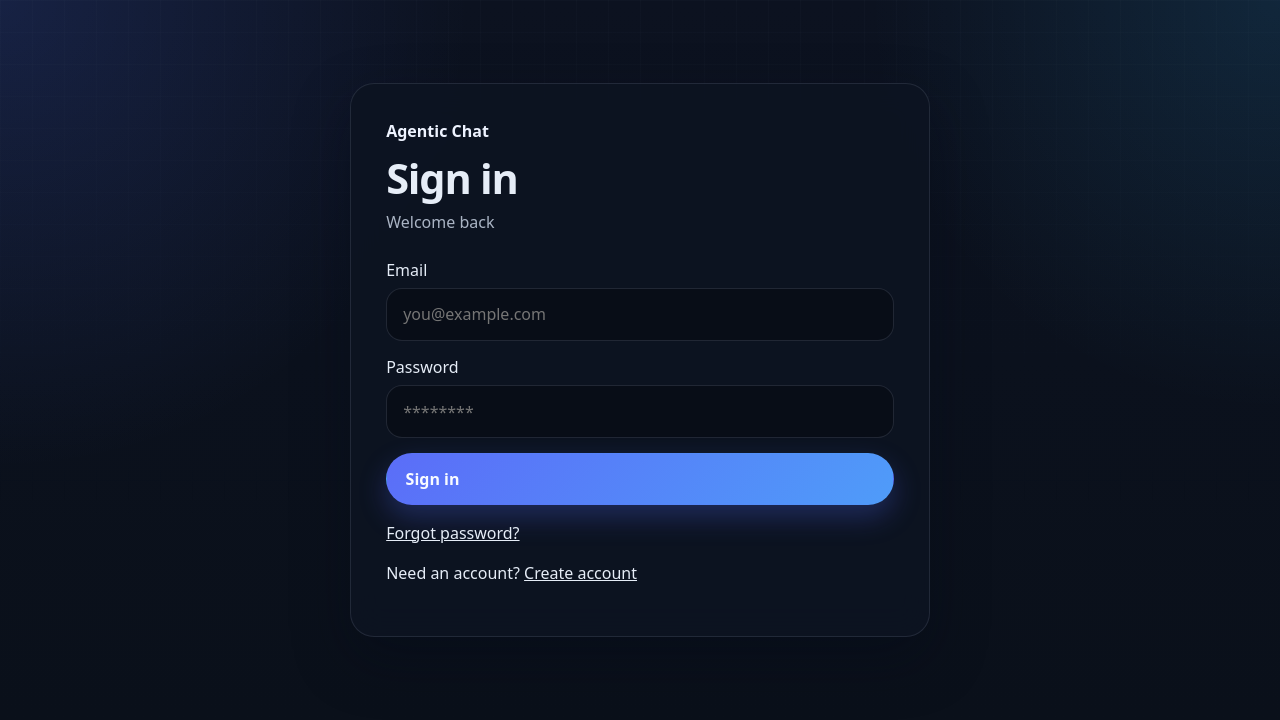
Test: App routes › enters the protected workspace through sign-in
Type "preview@agentic.chat" into the field labelled "Email" at (640, 314), box [386, 288, 894, 341]
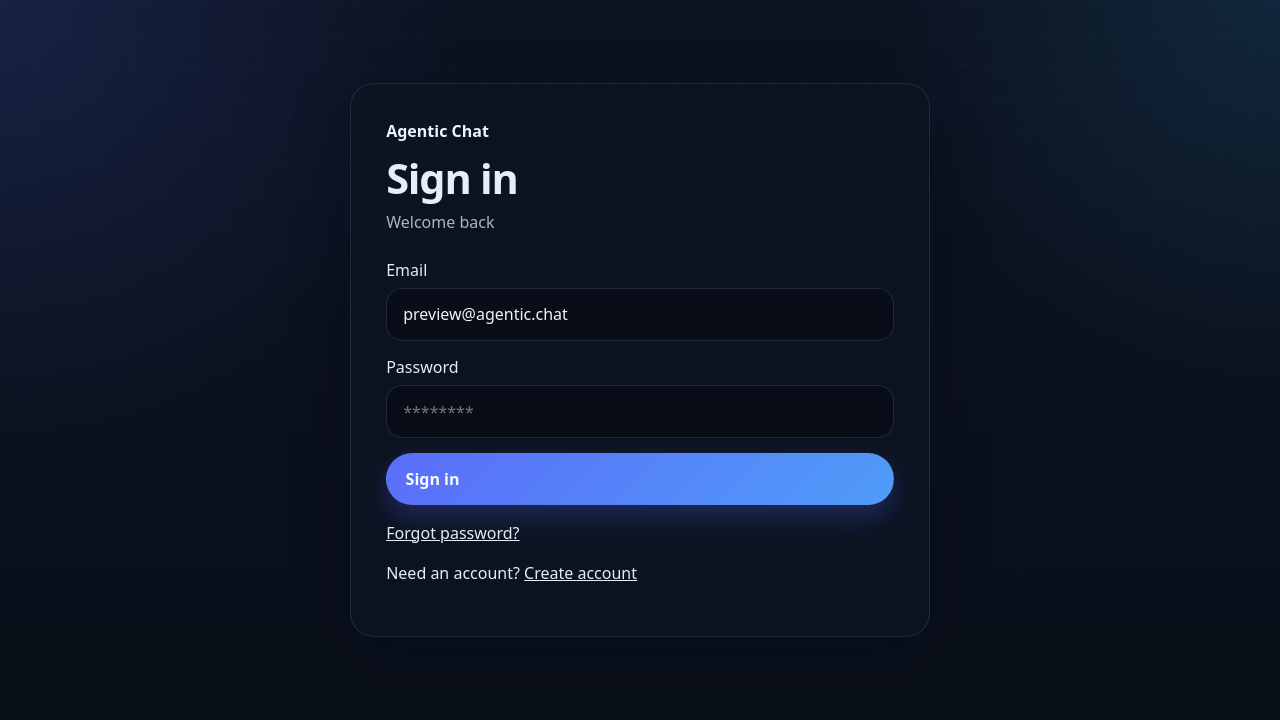
Type "correct-horse-battery-staple" into the password field labelled "Password" at (640, 412), box [386, 385, 894, 438]
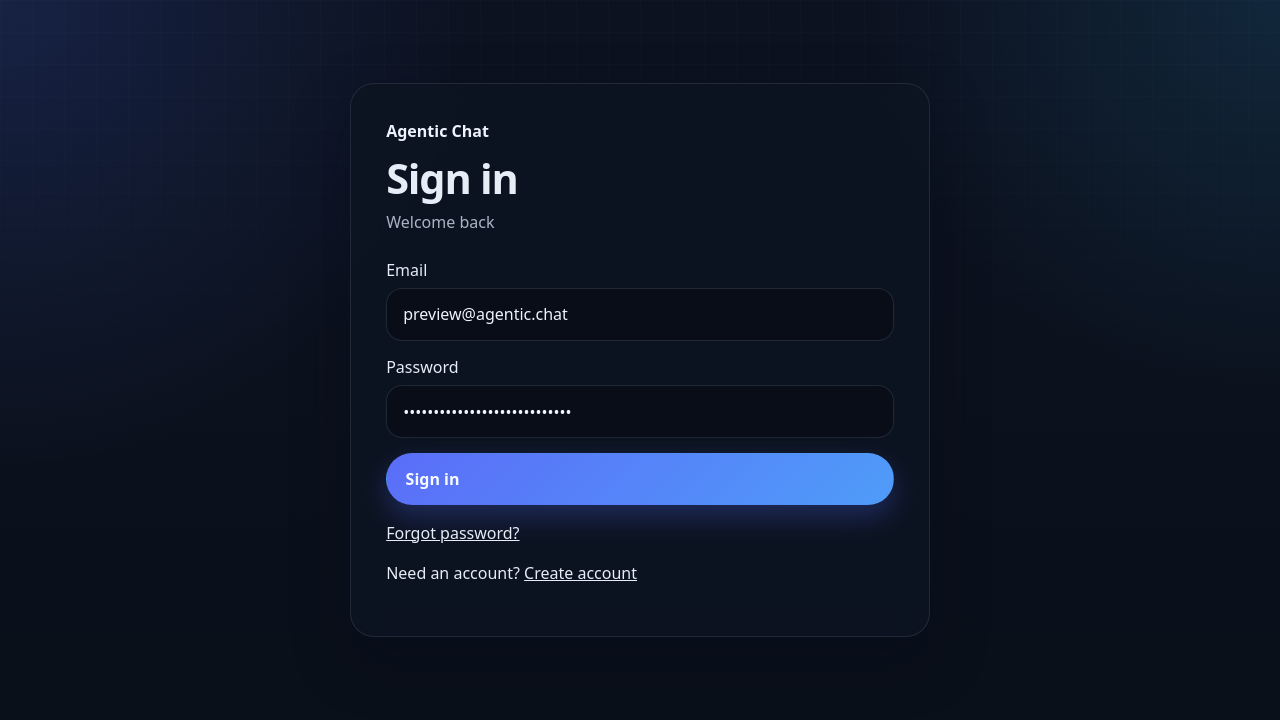
Click the button "Sign in" at (433, 479), box [386, 453, 894, 505]
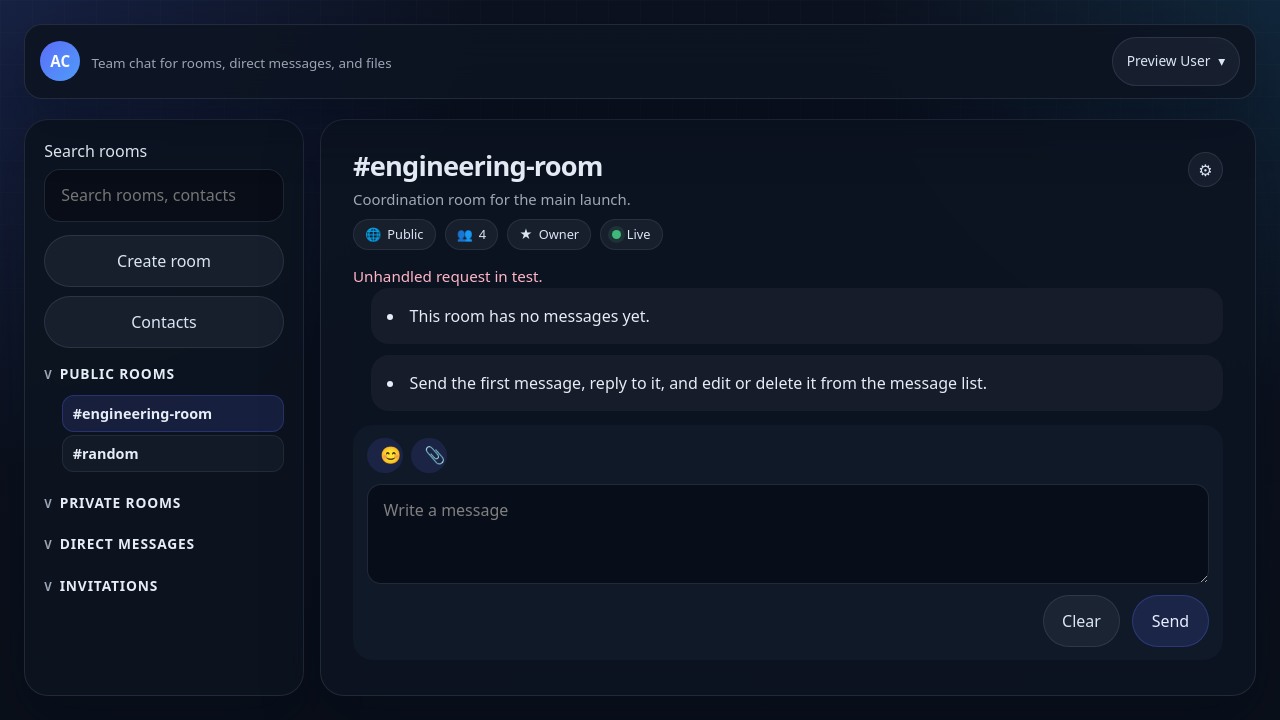
Now the button "#engineering-room" is shown, box [62, 395, 284, 432]
Now the text "Preview User" is shown, box [1127, 51, 1210, 72]
